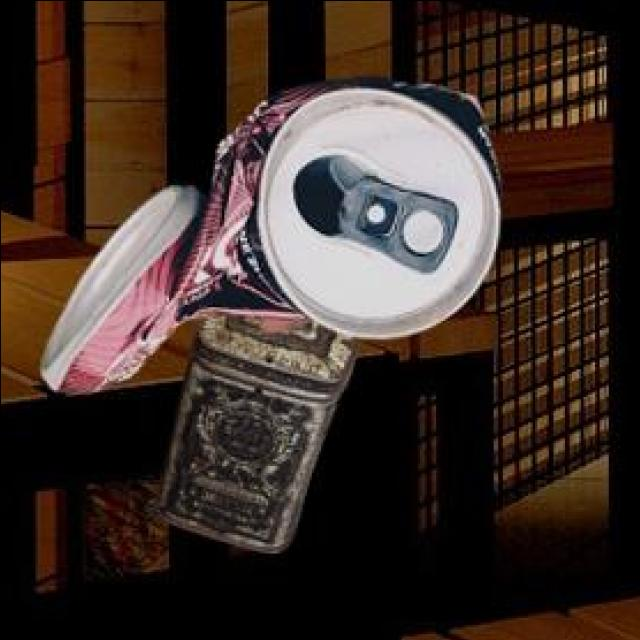logam: (38, 73, 496, 388), (151, 310, 356, 547)
